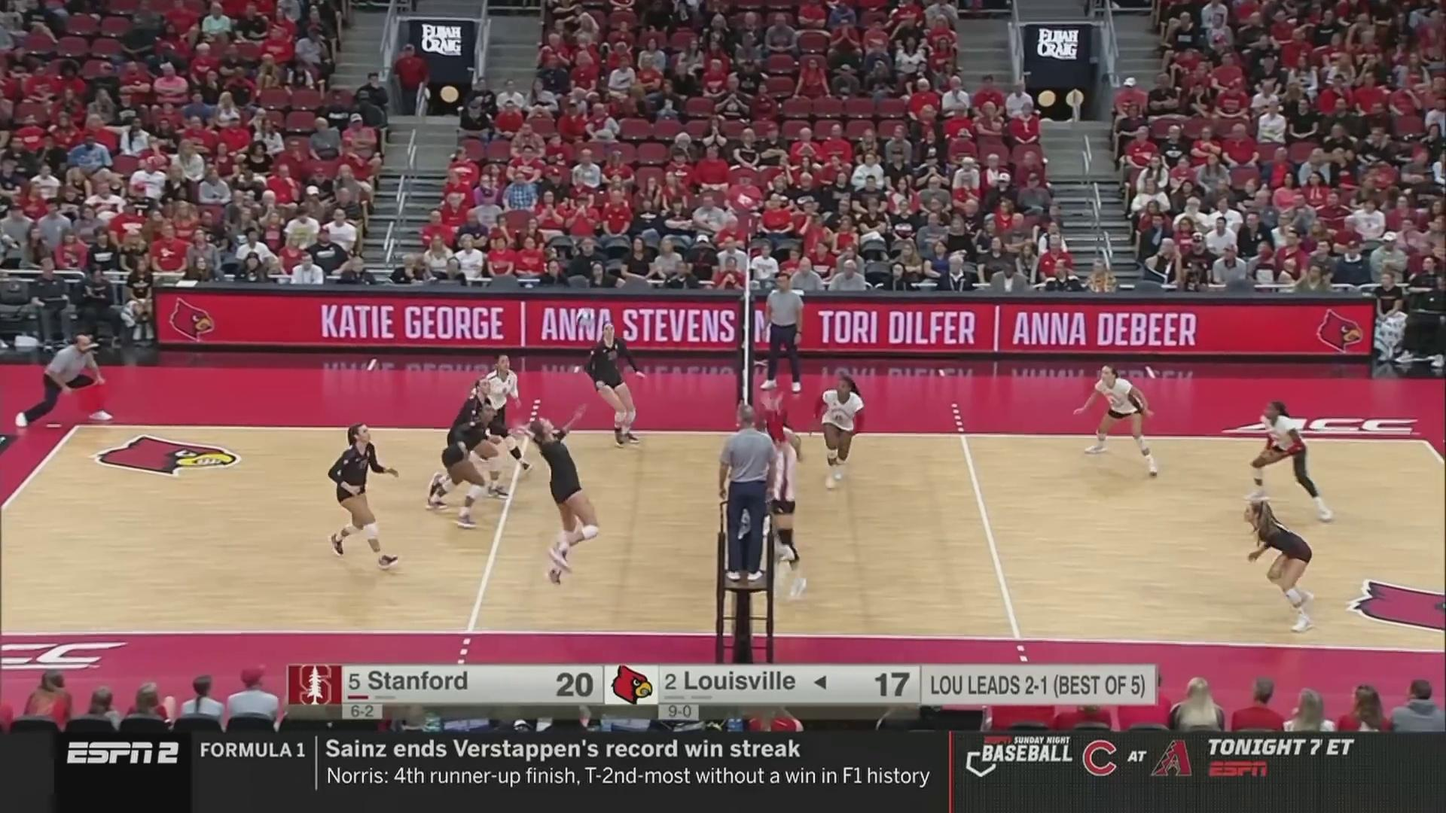player: (529, 417, 602, 582), (1241, 404, 1334, 521), (326, 423, 399, 570), (1245, 493, 1314, 632), (1075, 365, 1157, 475), (437, 377, 507, 504), (426, 403, 497, 527), (761, 400, 806, 595), (585, 328, 652, 447), (470, 351, 533, 477), (813, 378, 867, 489)
refree: (8, 333, 108, 432), (725, 419, 778, 583), (763, 274, 803, 390)
